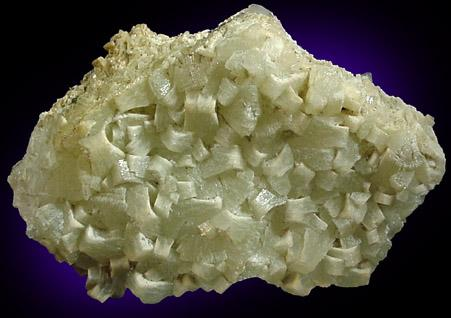prehnite: (10, 7, 446, 304)
